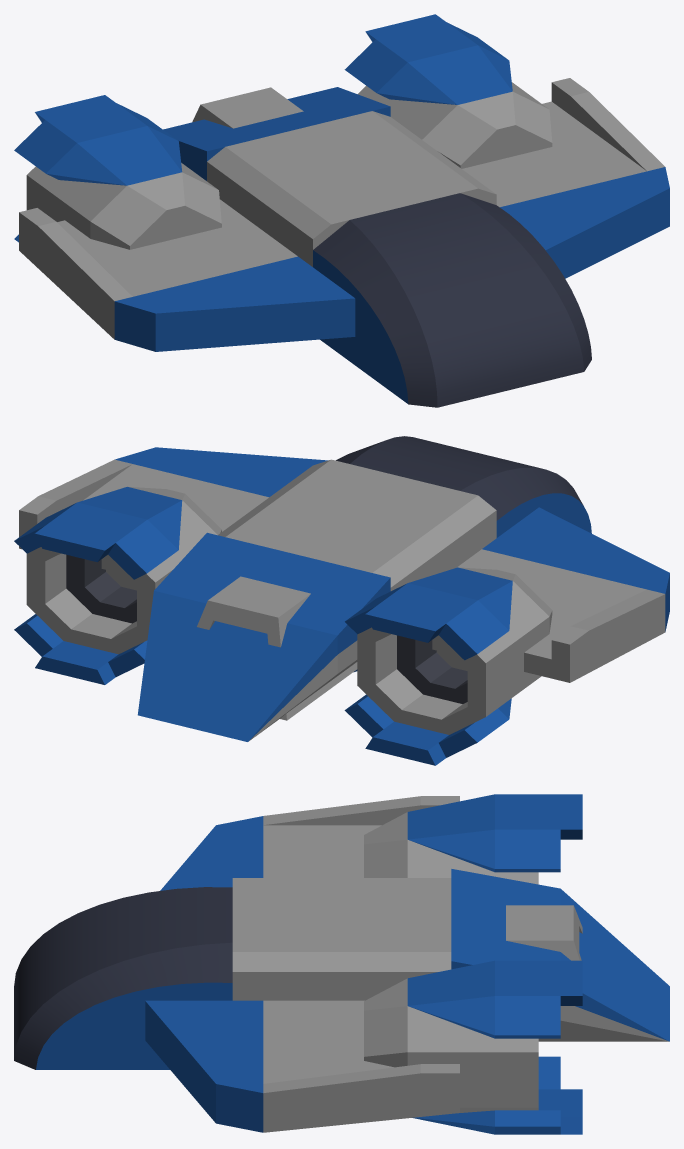
The model's file is Ship1.fbx.
3 views of the same model, one above another, from view 1: azimuth 30°, elevation 25°; view 2: azimuth 150°, elevation 25°; view 3: azimuth 270°, elevation 25° (orthographic). The views are drawn at different scales.
Parts seen in each view (by area): view 1: mergedBlocks; view 2: mergedBlocks; view 3: mergedBlocks.
Boxes of the visible parts, x1,y1,x2,y2 form: mergedBlocks: [14, 14, 669, 407]; mergedBlocks: [14, 436, 669, 765]; mergedBlocks: [14, 794, 669, 1134].
Bounding box in the file's own units: 30 × 7 × 30.
